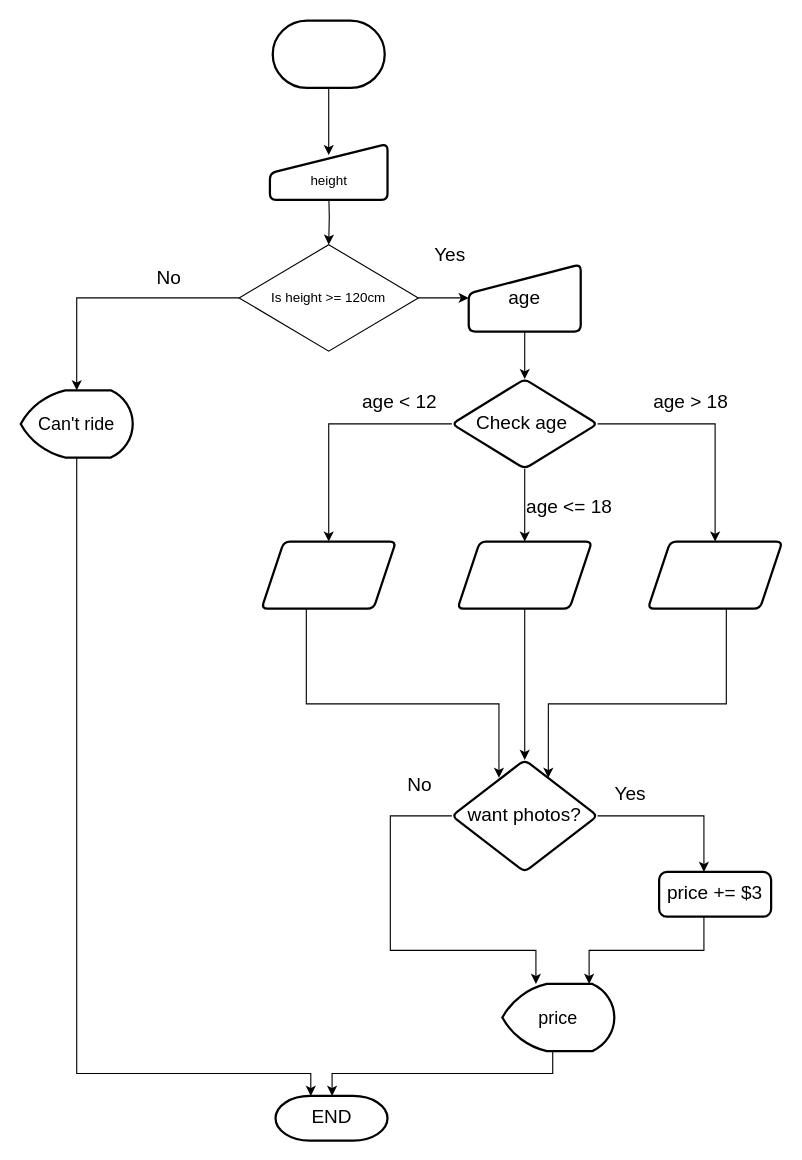
The diagram is 802 pixels wide and 1160 high, and some of its shapes have lost their labels. Each missing label, with the centre of its shape:
price = $12: point 714,574
price = $5: point 328,574
price = $7: point 524,574
START: point 328,53
